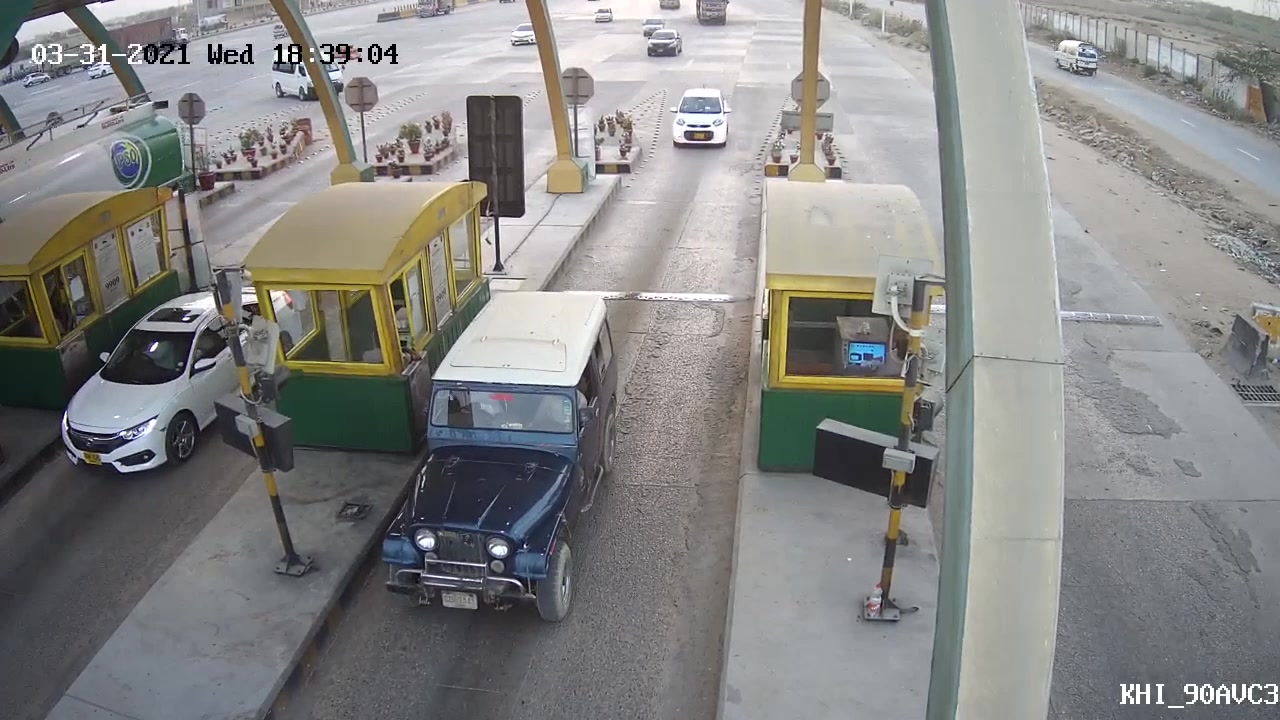F1: (373, 285, 623, 625)
